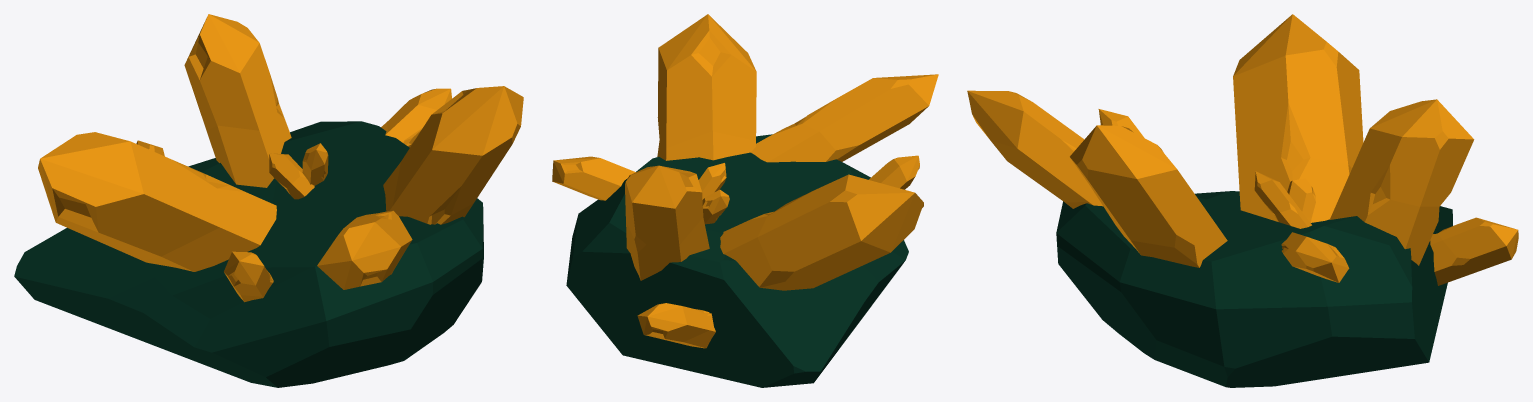
Rendered from Crystal.fbx.
3 views of the same model, side by side, from view 1: azimuth 30°, elevation 25°; view 2: azimuth 150°, elevation 25°; view 3: azimuth 270°, elevation 25° (orthographic). The views are drawn at different scales.
Visible parts, largest first — view 1: Cylinder.010; view 2: Cylinder.010; view 3: Cylinder.010.
Part boxes in pixels (bbox=[...]): Cylinder.010: bbox=[14, 14, 523, 387]; Cylinder.010: bbox=[552, 14, 938, 387]; Cylinder.010: bbox=[967, 14, 1518, 387].
Size of the model in its own units: 339 by 215 by 394.
